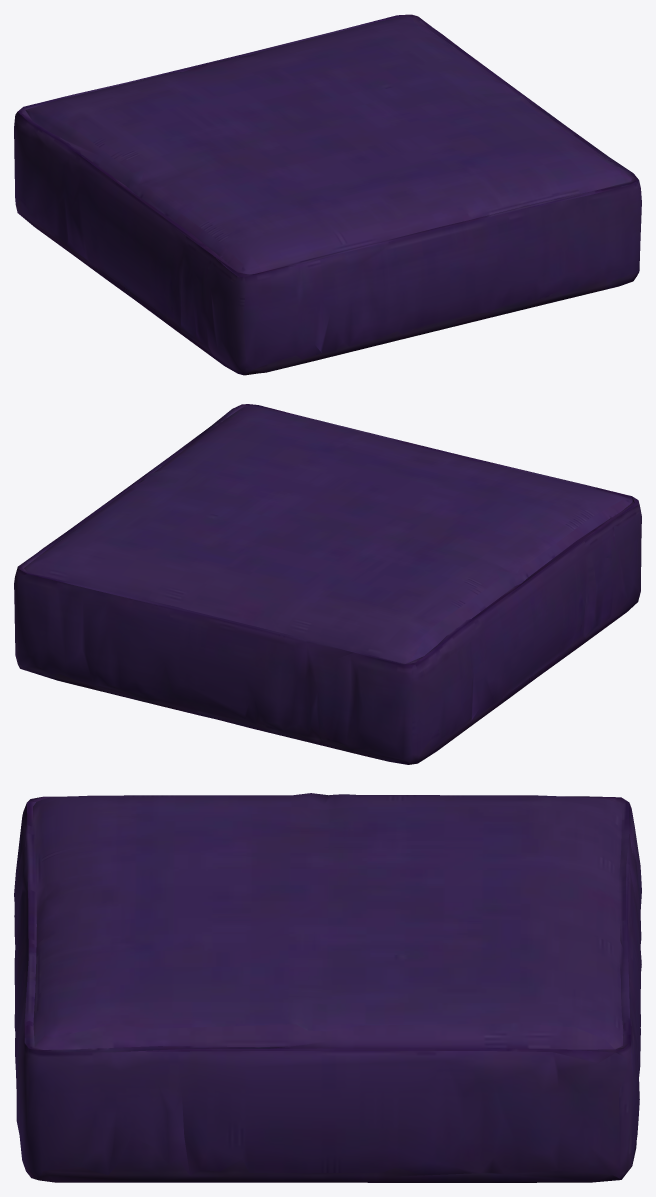
File: zabuton.glb
3 renders of one model, top to bottom at view 1: azimuth 30°, elevation 25°; view 2: azimuth 150°, elevation 25°; view 3: azimuth 270°, elevation 25°, orthographic. The views are drawn at different scales.
Visible parts, largest first — view 1: zabuton; view 2: zabuton; view 3: zabuton.
Part boxes in pixels (x1,y1,x2,y2): zabuton: [14, 14, 641, 375]; zabuton: [14, 404, 641, 764]; zabuton: [14, 793, 641, 1182].
Bounding box in the file's own units: 0.331 × 0.0901 × 0.331.
1 material, 1 textured.
